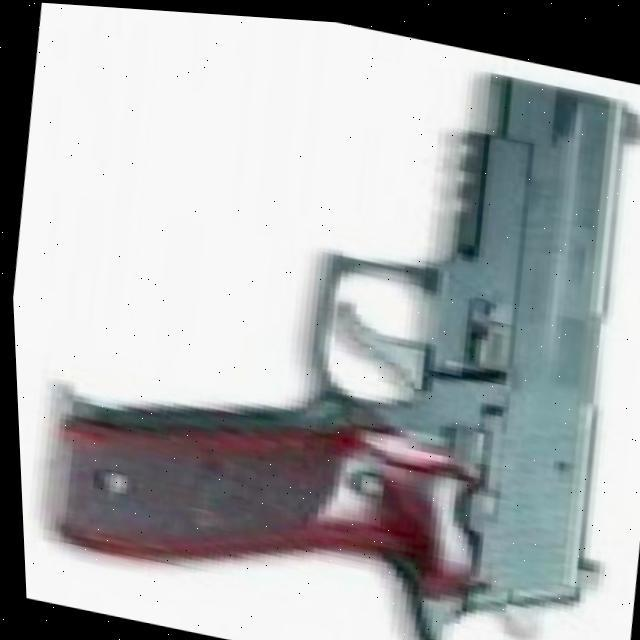gun: (23, 1, 640, 640)
